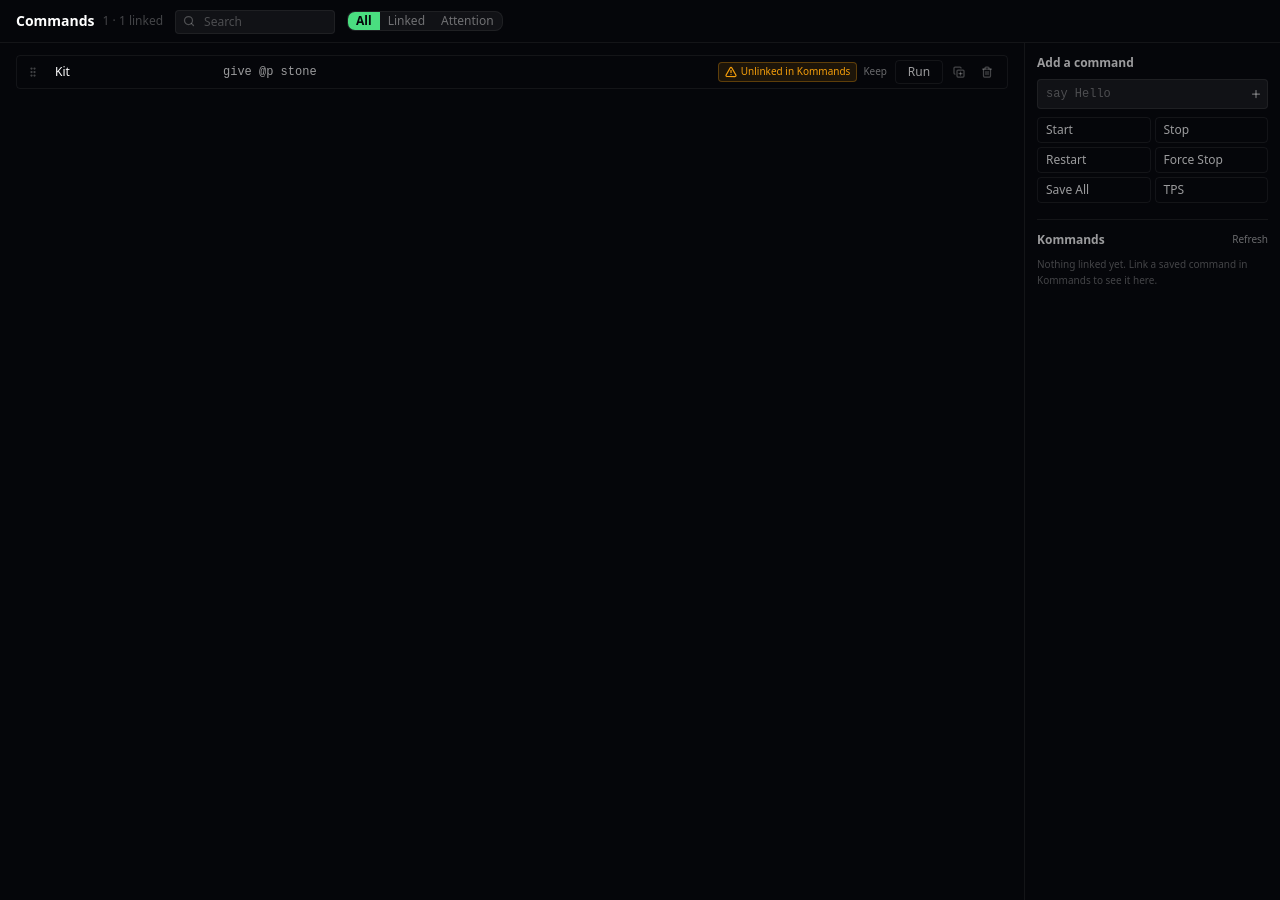
Test: CommandLibrary link states › keeps a row Kommands unlinked, and lets it become the server's own
Check: the text "Commands" is shown, box [16,11,95,31]
Check: the text "Unlinked in Kommands" is shown, box [718,62,857,82]
Click the button "Keep" at [875, 72], box [863,64,887,79]
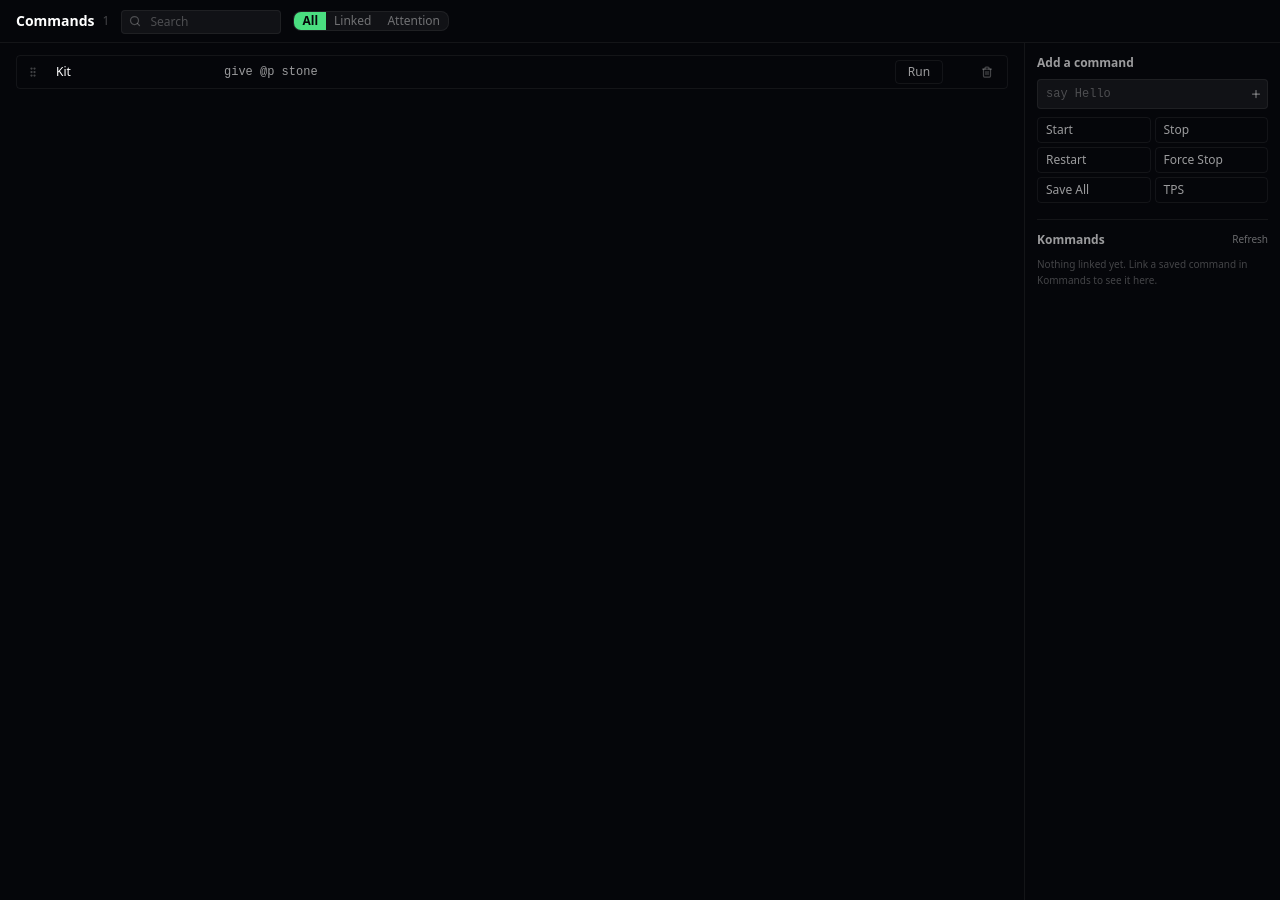
Check: the field named "Command for Kit" is shown, box [217,60,887,84]
